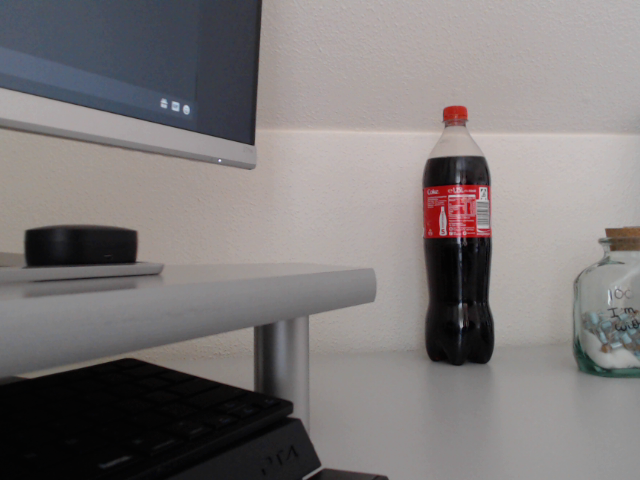bottle: (421, 103, 493, 367)
